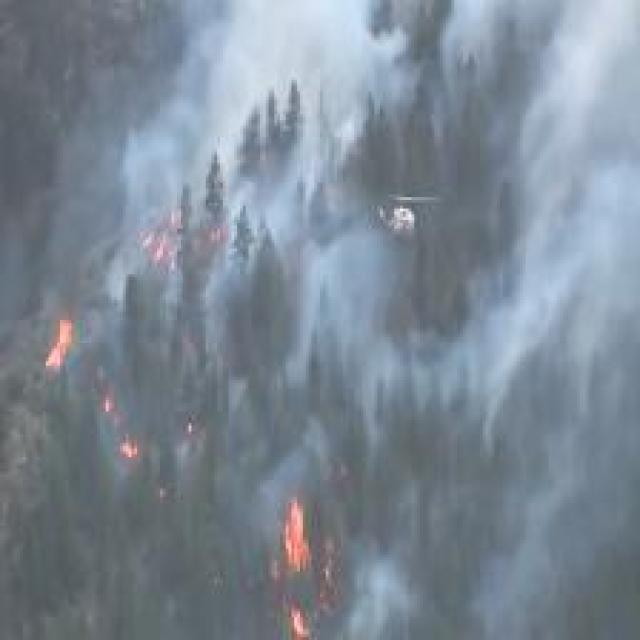fire: (4, 128, 446, 633)
smoke: (482, 6, 618, 426), (154, 0, 406, 177)
